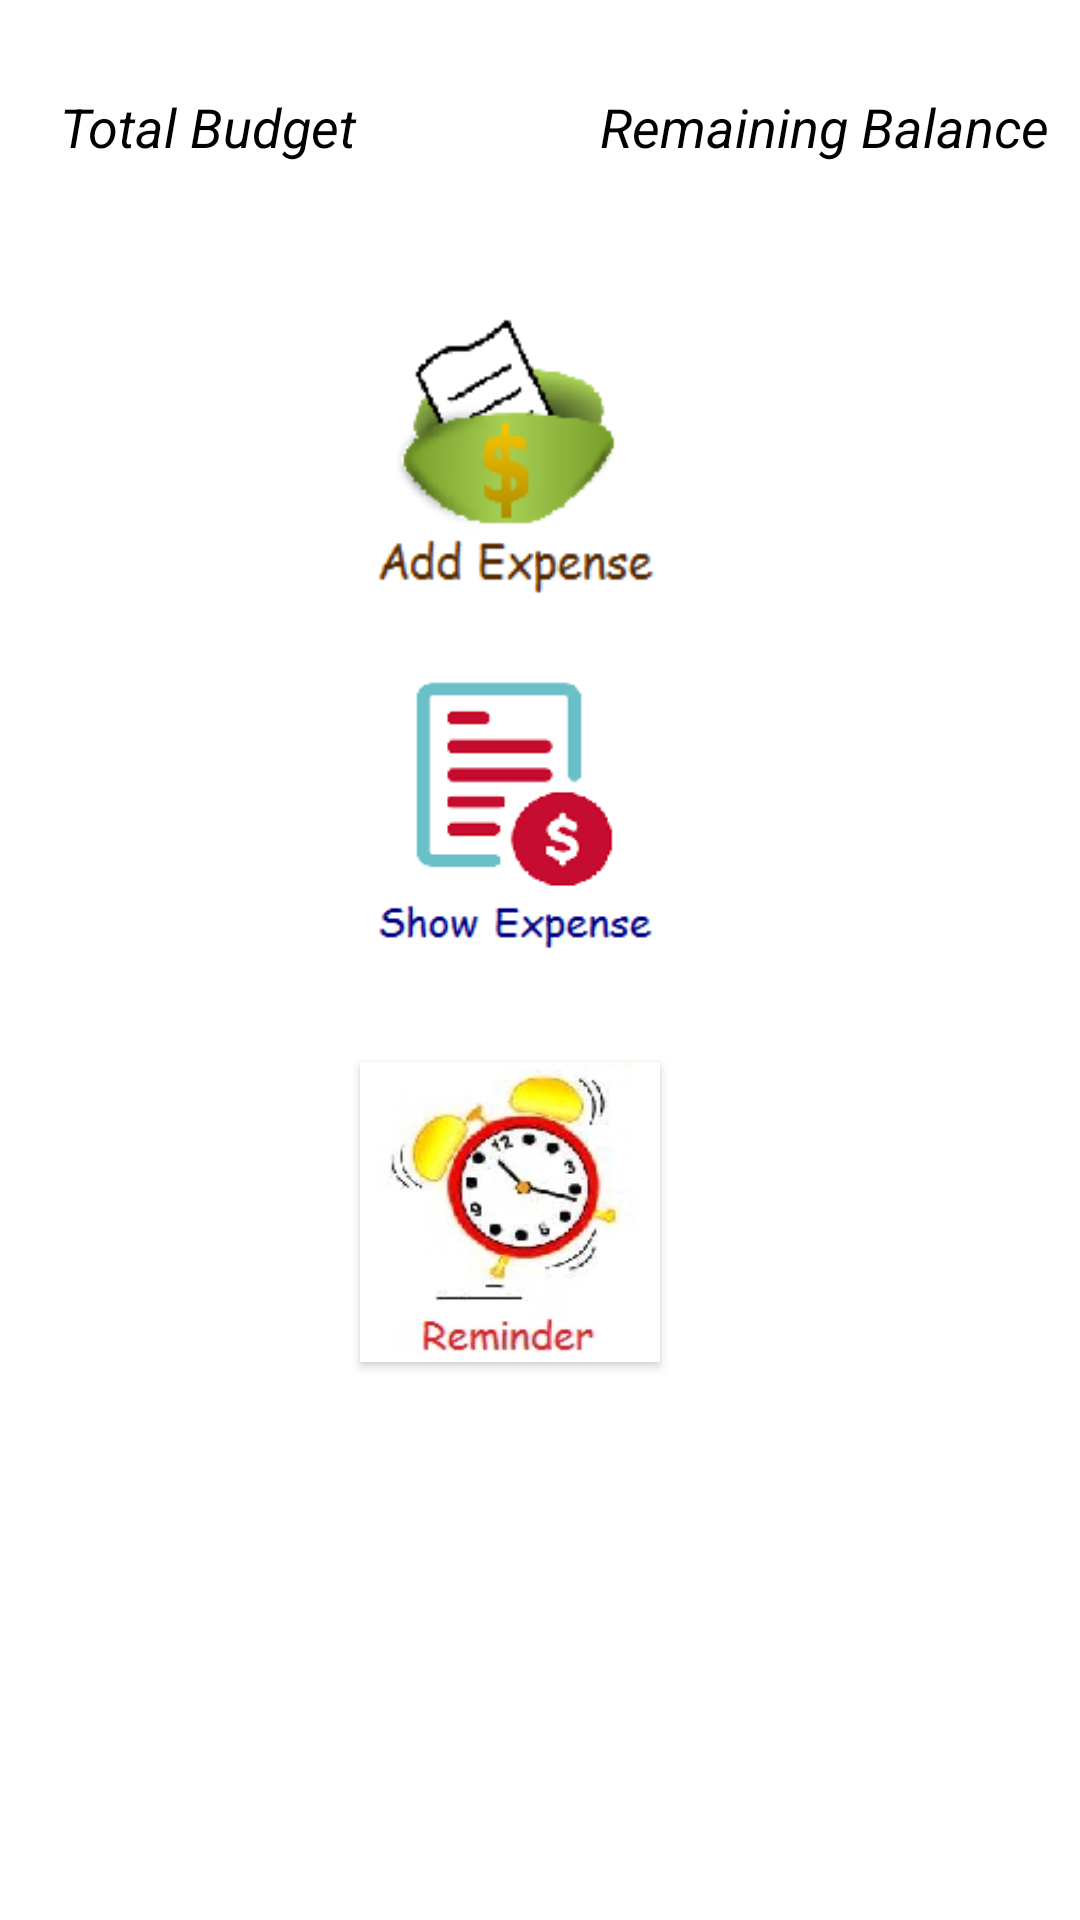

Icons on this 1080*1920 Android screen, each with its box as [x1, y1, x2, y2]:
alarm: [391, 1074, 619, 1351]
